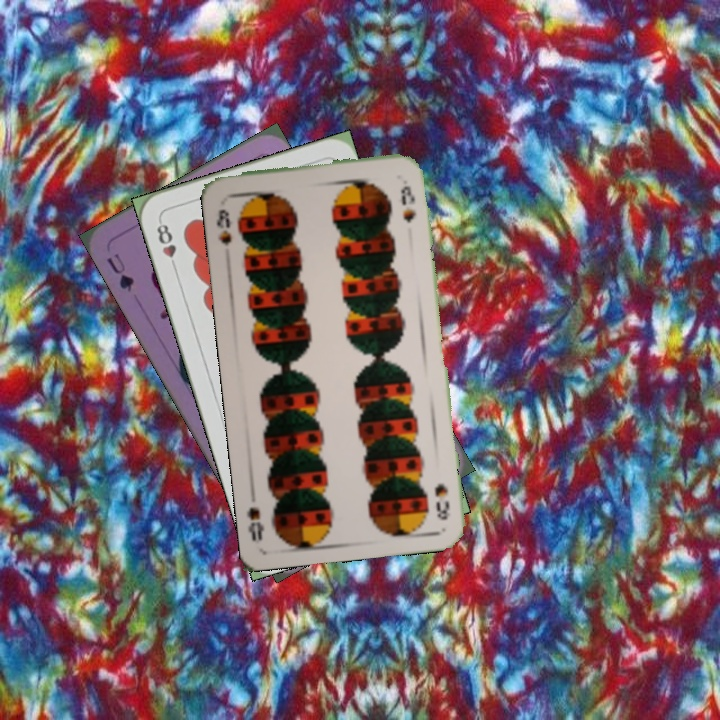GU: (102, 249, 137, 294)
H8: (152, 216, 180, 273)
S8: (431, 479, 453, 523), (212, 205, 234, 248)
